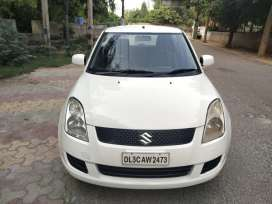license_plate: (123, 153, 169, 164)
